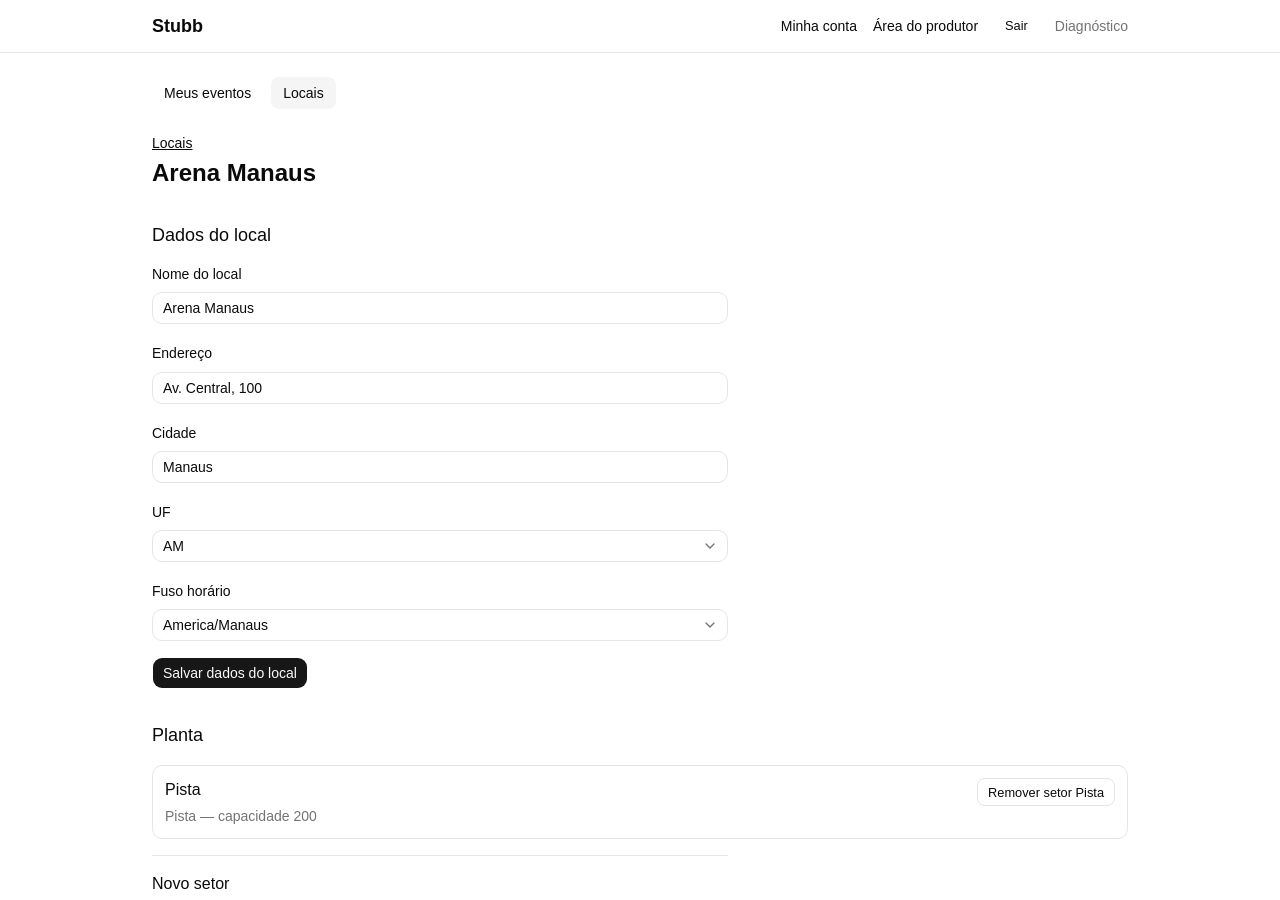
Scenario: locais do produtor › remover setor envia DELETE, aguarda a projeção e mostra a planta nova
Expected: the text "Pista — capacidade 200" is shown, [165,806,317,826]
What coordinates should you click on to do the following:
click the button "Remover setor Pista"
I would click on:
 (1046, 792)
Its box is [977,778,1115,806].
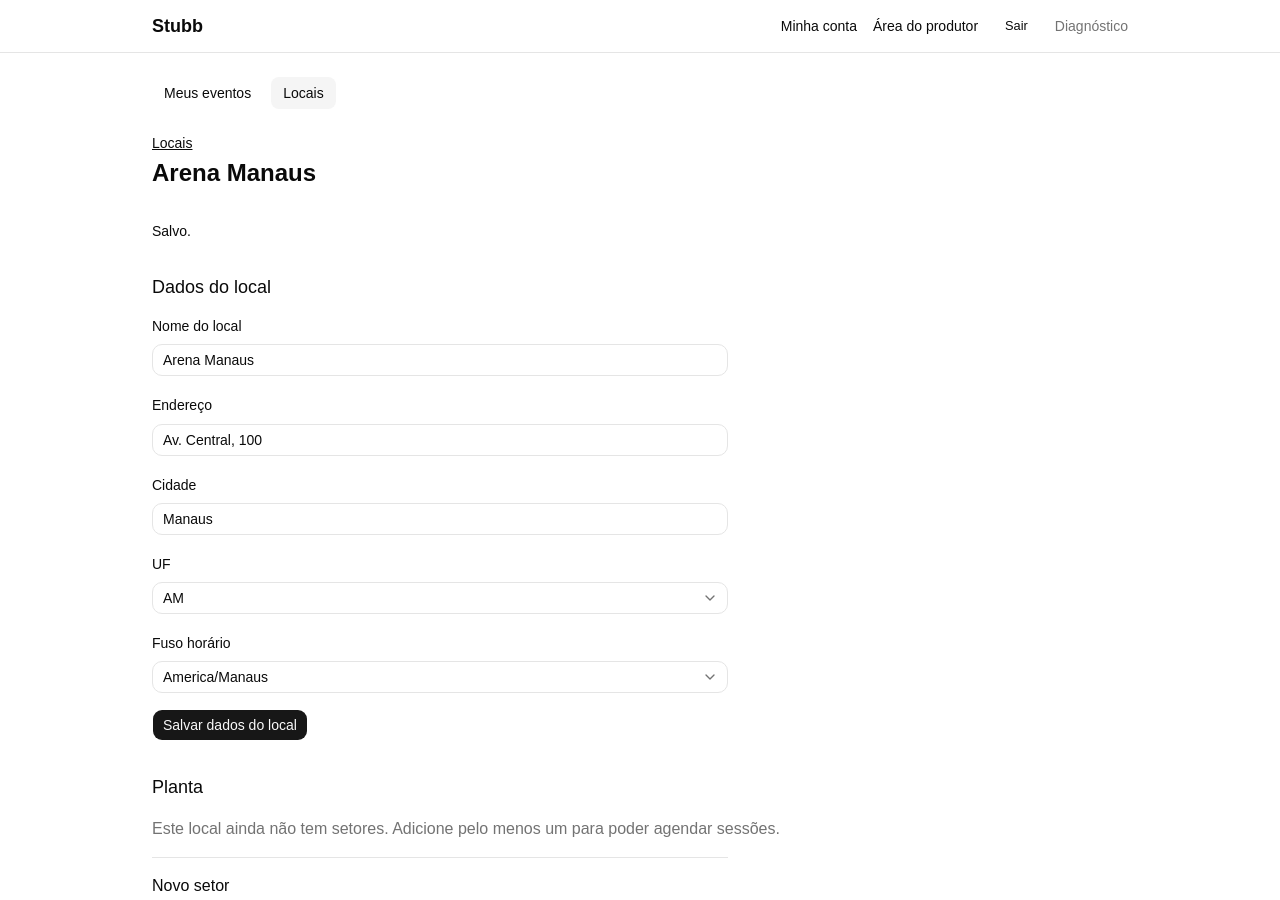
Now the heading "Pista" is gone
Now the text "Salvo." is shown, box [152,221,191,241]
